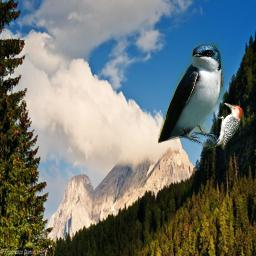Swallow: (158, 42, 225, 147)
Woodpecker: (206, 101, 242, 153)
